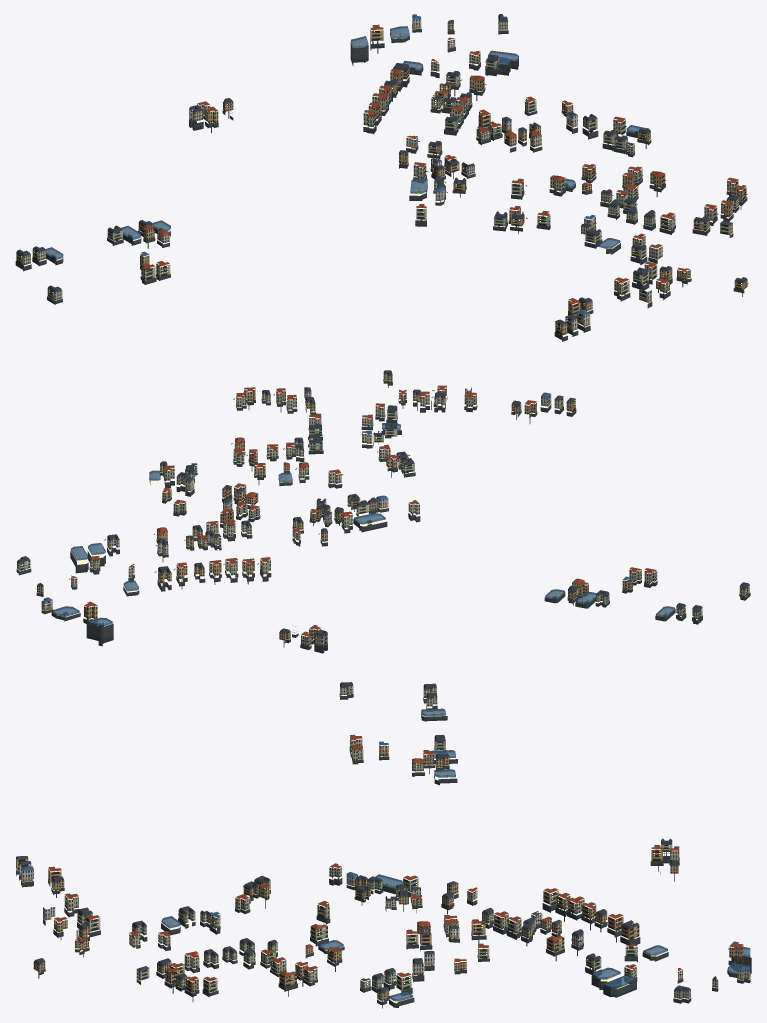
The model's file is osm_buildings_T_E00_N00_Q2.glb.
3 views of the same model, one above another, from view 1: azimuth 30°, elevation 25°; view 2: azimuth 150°, elevation 25°; view 3: azimuth 270°, elevation 25° (orthographic). The views are drawn at different scales.
Visible parts, largest first — view 1: OSM_PBR_T_E00_N00_Q2_wall_cream_stucco, OSM_PBR_T_E00_N00_Q2_foundation, OSM_PBR_T_E00_N00_Q2_wall_french_ochre, OSM_PBR_T_E00_N00_Q2_roof_terracotta, OSM_PBR_T_E00_N00_Q2_roof_mansard_slate, OSM_PBR_T_E00_N00_Q2_greenhouse_blend, OSM_PBR_T_E00_N00_Q2_roof_mansard_deck, OSM_PBR_T_E00_N00_Q2_wall_warm_white, OSM_PBR_T_E00_N00_Q2_roof_mint_metal, OSM_PBR_T_E00_N00_Q2_trim_cornice; view 2: OSM_PBR_T_E00_N00_Q2_foundation, OSM_PBR_T_E00_N00_Q2_wall_cream_stucco, OSM_PBR_T_E00_N00_Q2_wall_french_ochre, OSM_PBR_T_E00_N00_Q2_roof_terracotta, OSM_PBR_T_E00_N00_Q2_greenhouse_blend, OSM_PBR_T_E00_N00_Q2_roof_mansard_slate, OSM_PBR_T_E00_N00_Q2_roof_mansard_deck, OSM_PBR_T_E00_N00_Q2_wall_warm_white, OSM_PBR_T_E00_N00_Q2_trim_cornice, OSM_PBR_T_E00_N00_Q2_roof_mint_metal; view 3: OSM_PBR_T_E00_N00_Q2_wall_cream_stucco, OSM_PBR_T_E00_N00_Q2_foundation, OSM_PBR_T_E00_N00_Q2_wall_french_ochre, OSM_PBR_T_E00_N00_Q2_roof_terracotta, OSM_PBR_T_E00_N00_Q2_roof_mansard_slate, OSM_PBR_T_E00_N00_Q2_greenhouse_blend, OSM_PBR_T_E00_N00_Q2_roof_mansard_deck, OSM_PBR_T_E00_N00_Q2_roof_mint_metal, OSM_PBR_T_E00_N00_Q2_wall_warm_white, OSM_PBR_T_E00_N00_Q2_trim_cornice.
Boxes of the visible parts, x1=… form: OSM_PBR_T_E00_N00_Q2_wall_cream_stucco: x1=16, y1=17, x2=738, y2=300; OSM_PBR_T_E00_N00_Q2_foundation: x1=15, y1=25, x2=747, y2=341; OSM_PBR_T_E00_N00_Q2_wall_french_ochre: x1=138, y1=26, x2=747, y2=335; OSM_PBR_T_E00_N00_Q2_roof_terracotta: x1=141, y1=24, x2=746, y2=304; OSM_PBR_T_E00_N00_Q2_roof_mansard_slate: x1=16, y1=14, x2=747, y2=324; OSM_PBR_T_E00_N00_Q2_greenhouse_blend: x1=45, y1=26, x2=645, y2=259; OSM_PBR_T_E00_N00_Q2_roof_mansard_deck: x1=18, y1=14, x2=745, y2=300; OSM_PBR_T_E00_N00_Q2_wall_warm_white: x1=412, y1=17, x2=577, y2=330; OSM_PBR_T_E00_N00_Q2_roof_mint_metal: x1=16, y1=25, x2=745, y2=311; OSM_PBR_T_E00_N00_Q2_trim_cornice: x1=17, y1=18, x2=746, y2=324; OSM_PBR_T_E00_N00_Q2_foundation: x1=16, y1=379, x2=750, y2=653; OSM_PBR_T_E00_N00_Q2_wall_cream_stucco: x1=17, y1=389, x2=749, y2=646; OSM_PBR_T_E00_N00_Q2_wall_french_ochre: x1=84, y1=373, x2=632, y2=640; OSM_PBR_T_E00_N00_Q2_roof_terracotta: x1=71, y1=385, x2=656, y2=636; OSM_PBR_T_E00_N00_Q2_greenhouse_blend: x1=52, y1=423, x2=674, y2=626; OSM_PBR_T_E00_N00_Q2_roof_mansard_slate: x1=17, y1=371, x2=749, y2=636; OSM_PBR_T_E00_N00_Q2_roof_mansard_deck: x1=18, y1=370, x2=747, y2=633; OSM_PBR_T_E00_N00_Q2_wall_warm_white: x1=41, y1=397, x2=563, y2=610; OSM_PBR_T_E00_N00_Q2_trim_cornice: x1=21, y1=374, x2=749, y2=641; OSM_PBR_T_E00_N00_Q2_roof_mint_metal: x1=18, y1=378, x2=748, y2=644; OSM_PBR_T_E00_N00_Q2_wall_cream_stucco: x1=64, y1=685, x2=718, y2=998; OSM_PBR_T_E00_N00_Q2_foundation: x1=16, y1=693, x2=751, y2=1008; OSM_PBR_T_E00_N00_Q2_wall_french_ochre: x1=16, y1=744, x2=743, y2=1000; OSM_PBR_T_E00_N00_Q2_roof_terracotta: x1=48, y1=734, x2=743, y2=981; OSM_PBR_T_E00_N00_Q2_roof_mansard_slate: x1=16, y1=683, x2=717, y2=992; OSM_PBR_T_E00_N00_Q2_greenhouse_blend: x1=161, y1=708, x2=750, y2=1001; OSM_PBR_T_E00_N00_Q2_roof_mansard_deck: x1=35, y1=682, x2=749, y2=1000; OSM_PBR_T_E00_N00_Q2_roof_mint_metal: x1=39, y1=690, x2=743, y2=997; OSM_PBR_T_E00_N00_Q2_wall_warm_white: x1=19, y1=863, x2=750, y2=980; OSM_PBR_T_E00_N00_Q2_trim_cornice: x1=20, y1=685, x2=747, y2=994.
Size of the model in its own units: 990 by 81.37 by 1000.
Materials: 18 (16 with a texture image).
